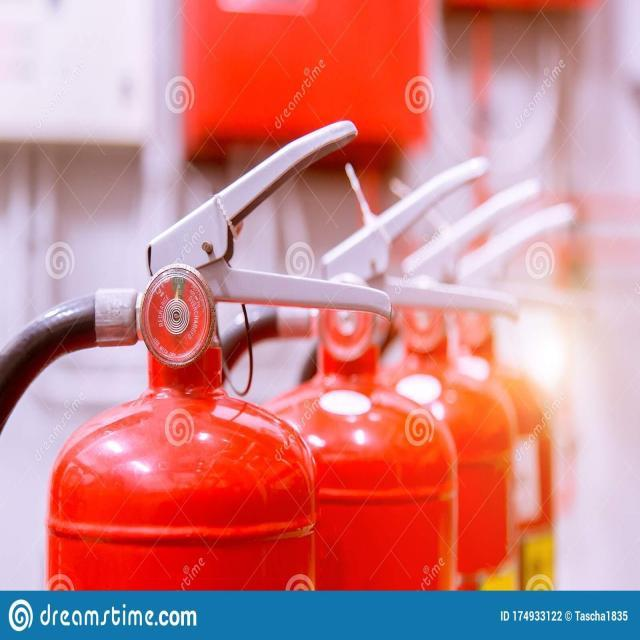fire_extinguisher: (0, 108, 398, 592), (173, 152, 525, 589)
